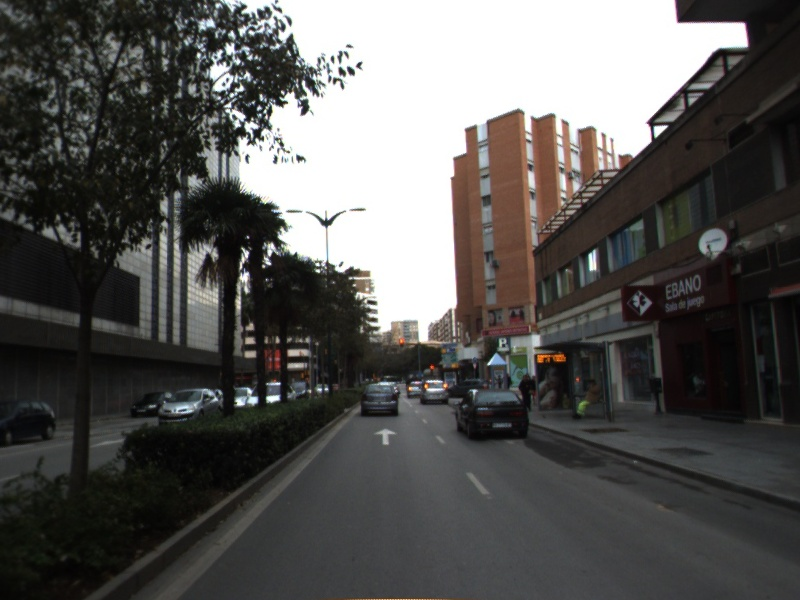STRAIGHT: (371, 427, 400, 447)
